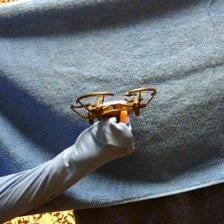drone: (71, 85, 158, 126)
